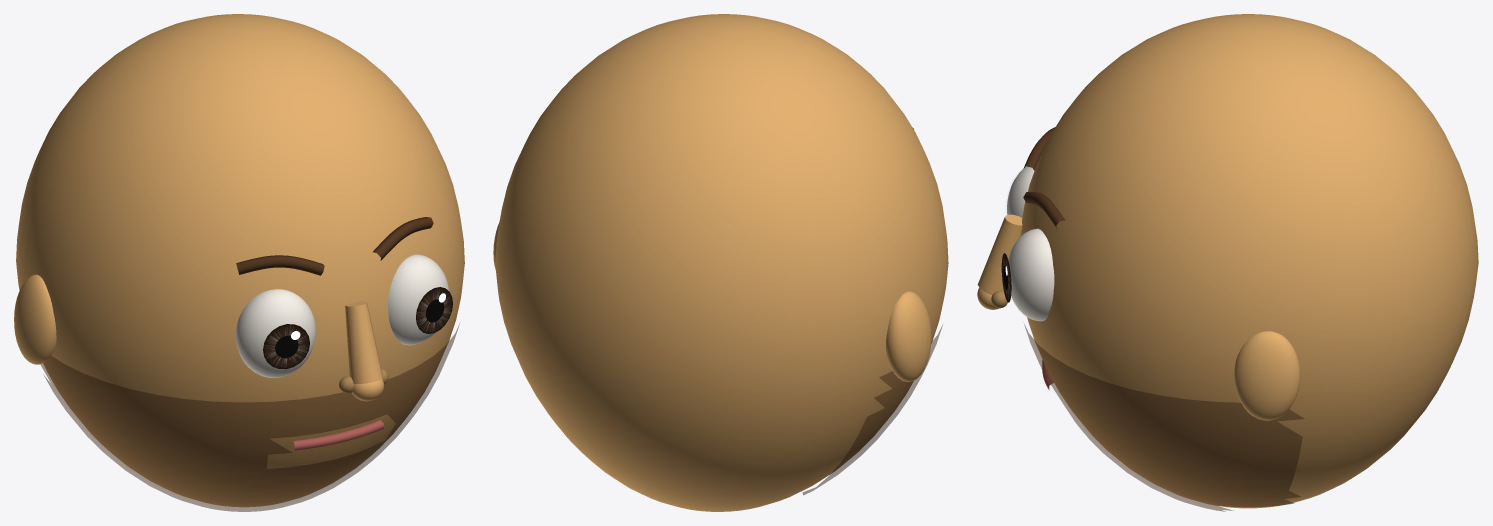
File: 01-trois-jours.glb
The picture shows the model from 3 angles, left to right: view 1: azimuth 30°, elevation 25°; view 2: azimuth 150°, elevation 25°; view 3: azimuth 270°, elevation 25°; orthographic projection.
Size of the model in its own units: 0.3087 by 0.3232 by 0.3166.
10 materials, 1 textured.
